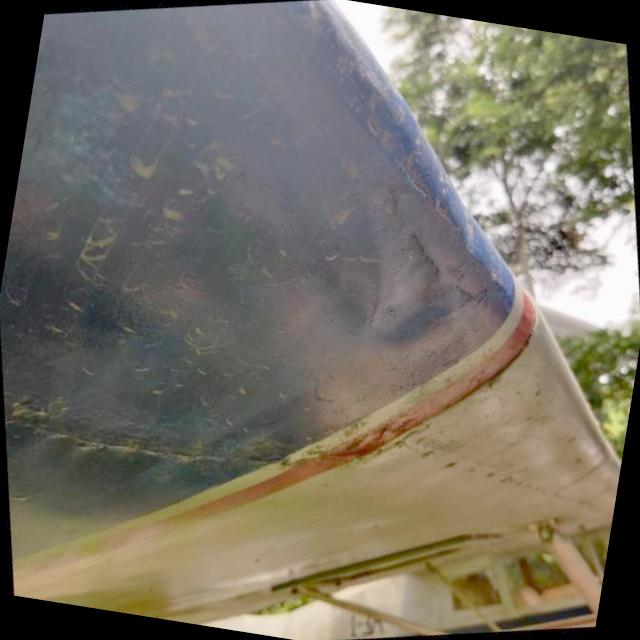dent: (253, 161, 460, 363)
